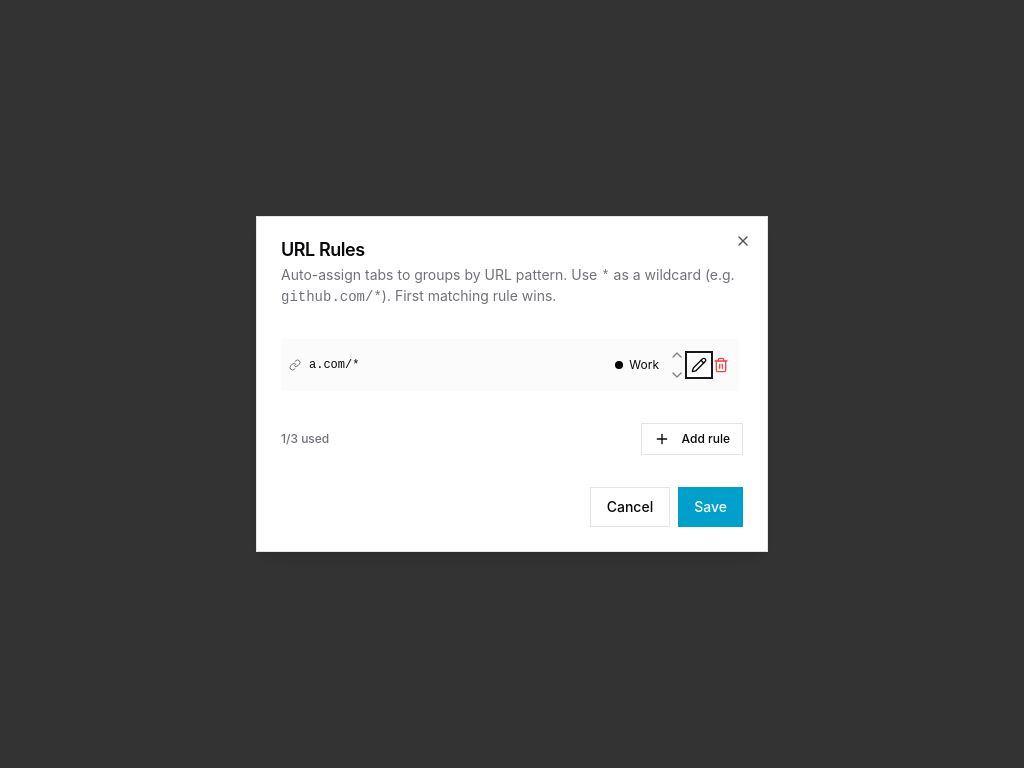
UrlRulesModal — editing rules › Save in the edit modal is disabled until something actually changes
The width and height of the screenshot is (1024, 768).
Click the button named "edit rule" at (699, 365), box [689, 355, 709, 375]
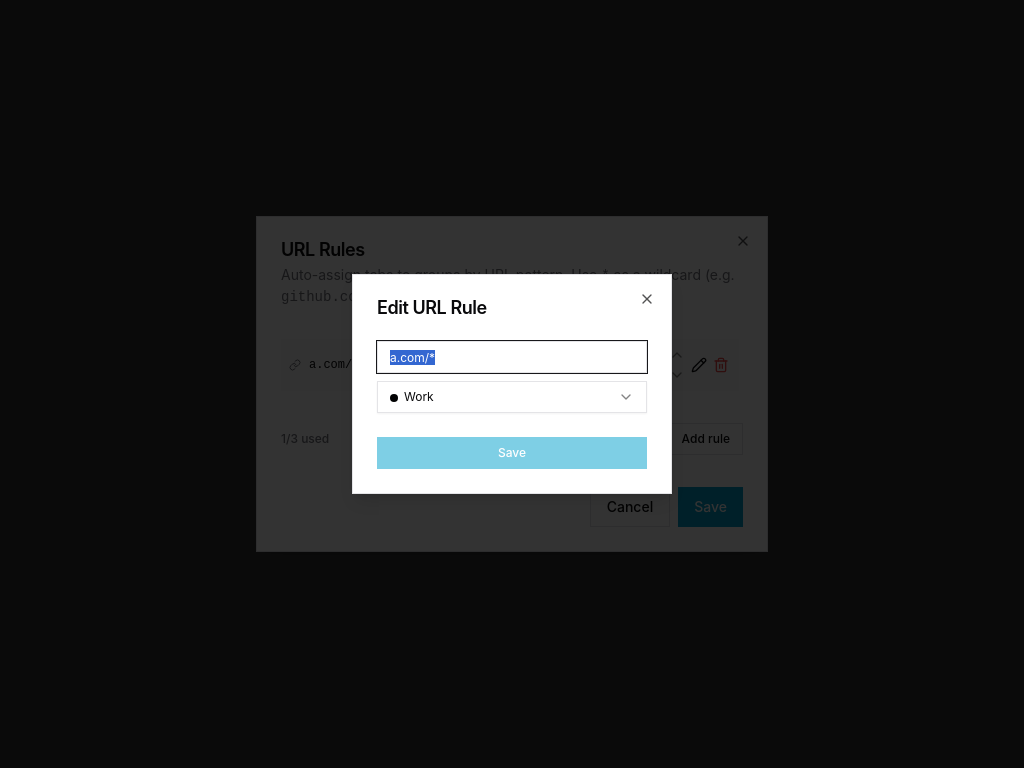
Result: the button "Save" is disabled at [377, 437, 647, 469]
Replace the text in the field with placeholder "Pattern, e.g. github.com/*" with "b.com/*" at (512, 357), box [377, 341, 647, 373]
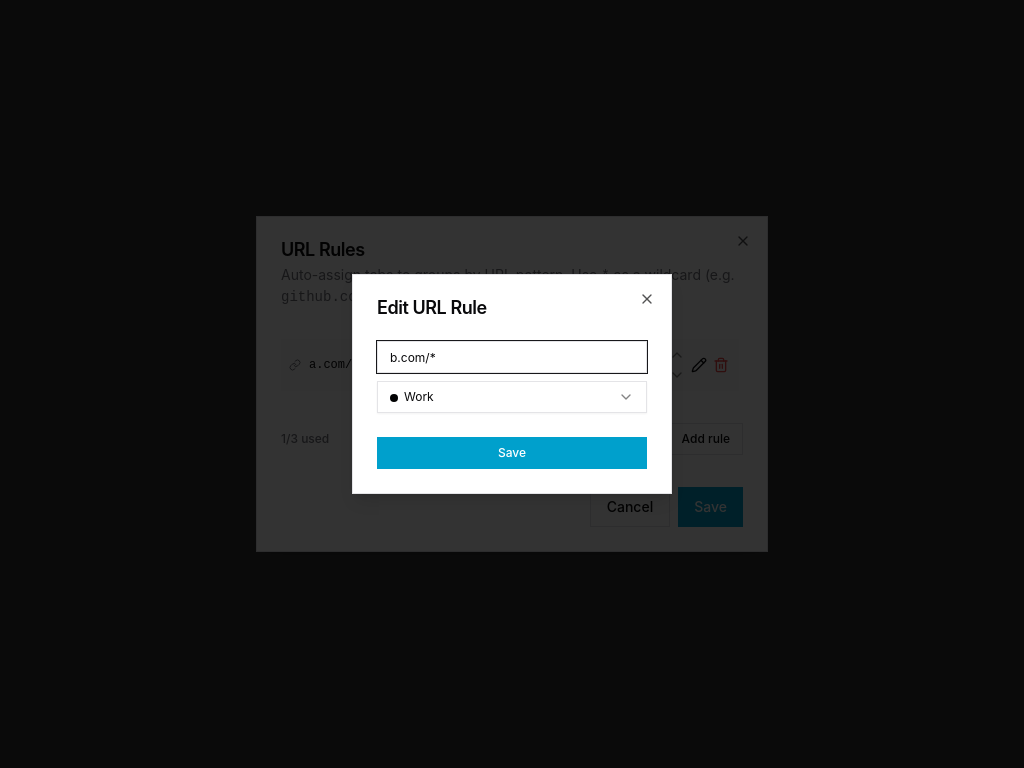
Result: the button "Save" is enabled at [377, 437, 647, 469]
